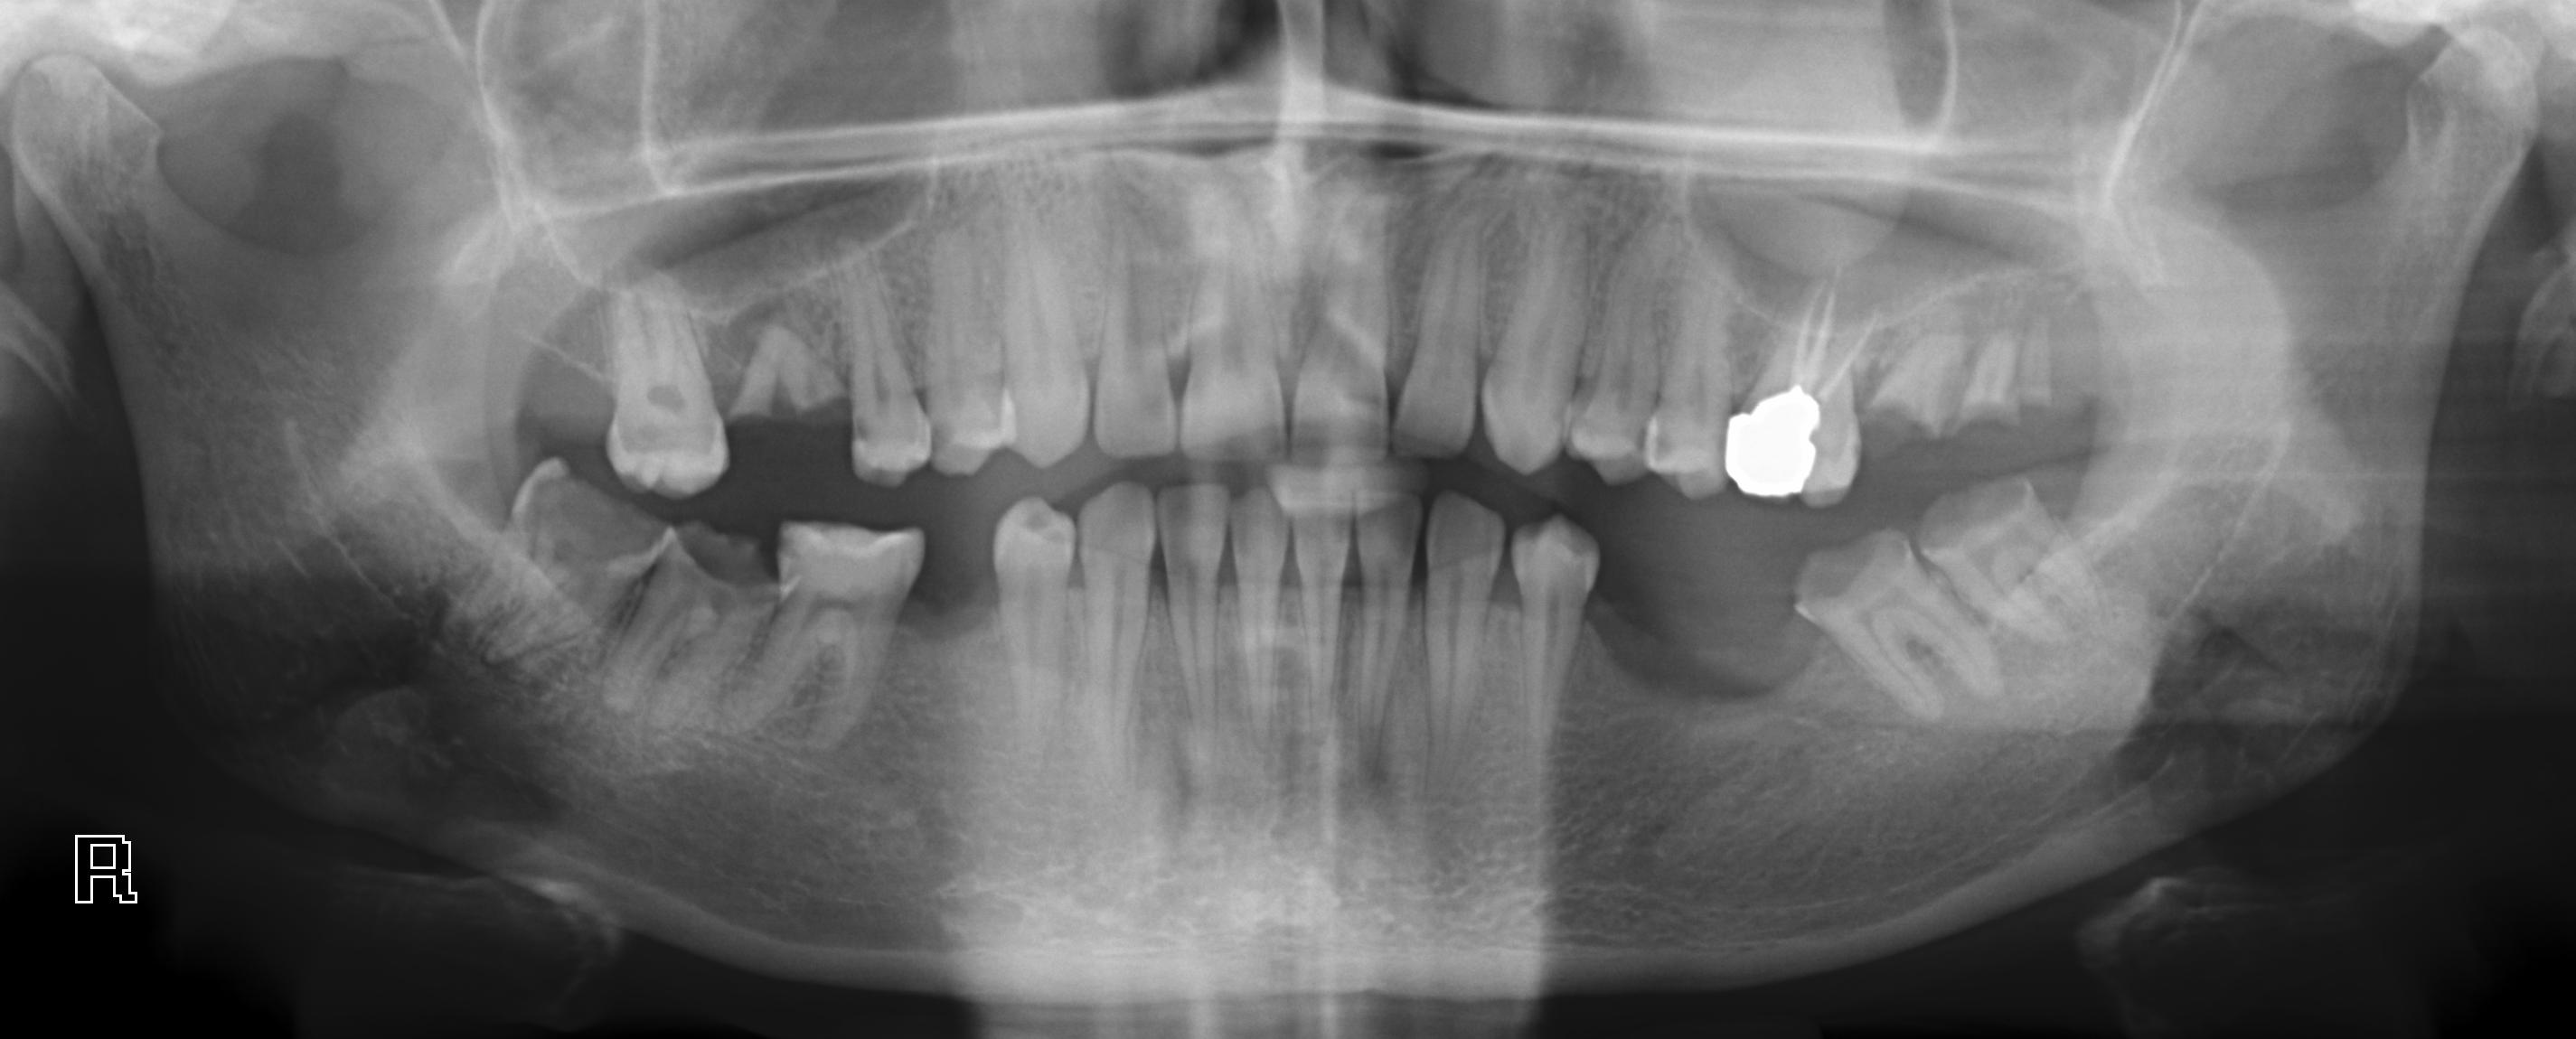Çürük: (1715, 387, 1842, 496)
Çürük Bölgesi: (522, 466, 657, 566), (1787, 522, 1906, 602), (683, 514, 782, 591), (1909, 494, 2031, 553), (1865, 400, 1939, 448), (933, 415, 956, 468), (848, 419, 871, 455)
